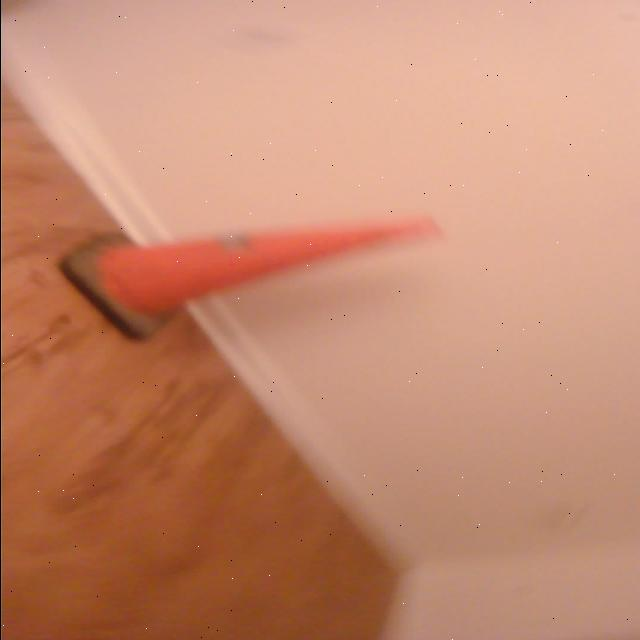traffic cone: (55, 210, 450, 346)
